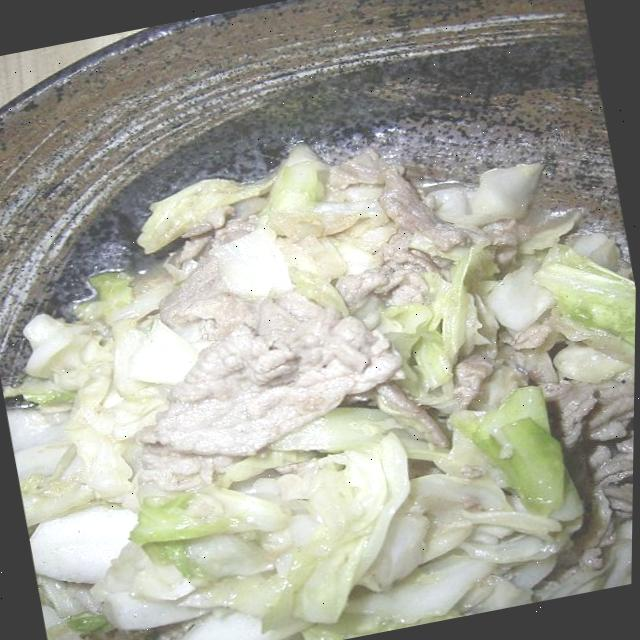蔬菜料理: (0, 74, 639, 640)
